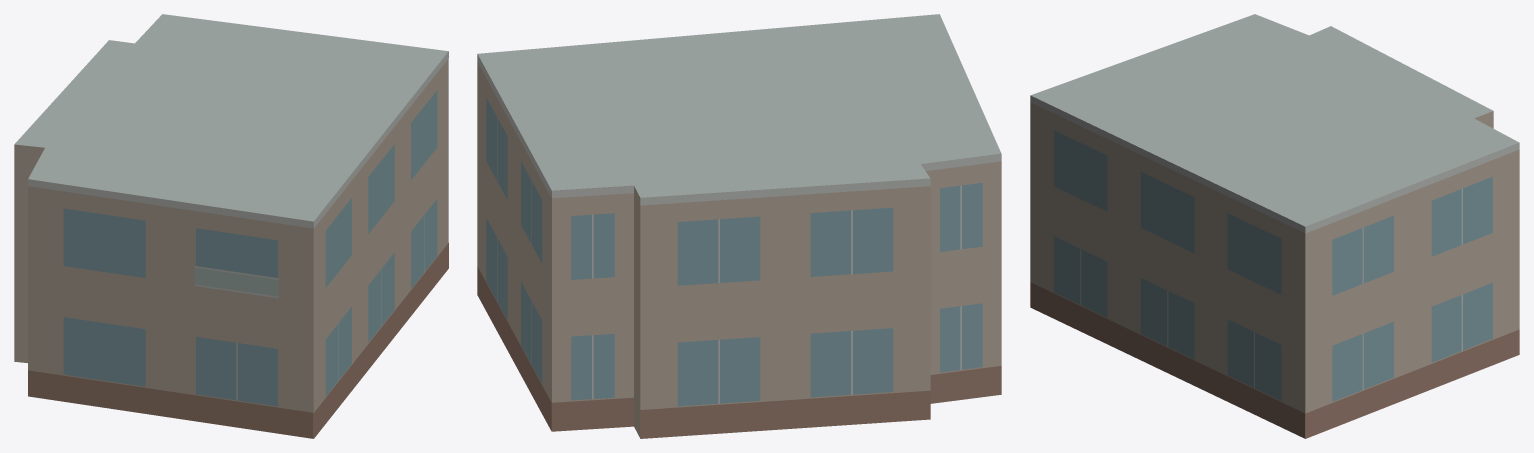
The model's file is survey-upis-32628729.glb.
3 views of the same model, side by side, from view 1: azimuth 30°, elevation 25°; view 2: azimuth 150°, elevation 25°; view 3: azimuth 270°, elevation 25° (orthographic). The views are drawn at different scales.
Visible parts, largest first — view 1: survey-upis-32628729.tmp; view 2: survey-upis-32628729.tmp; view 3: survey-upis-32628729.tmp.
Part boxes in pixels (x1,y1,x2,y2): survey-upis-32628729.tmp: (14, 14, 448, 438); survey-upis-32628729.tmp: (477, 14, 1001, 438); survey-upis-32628729.tmp: (1030, 14, 1519, 438).
Size of the model in its own units: 16.36 by 7.6 by 15.89.
